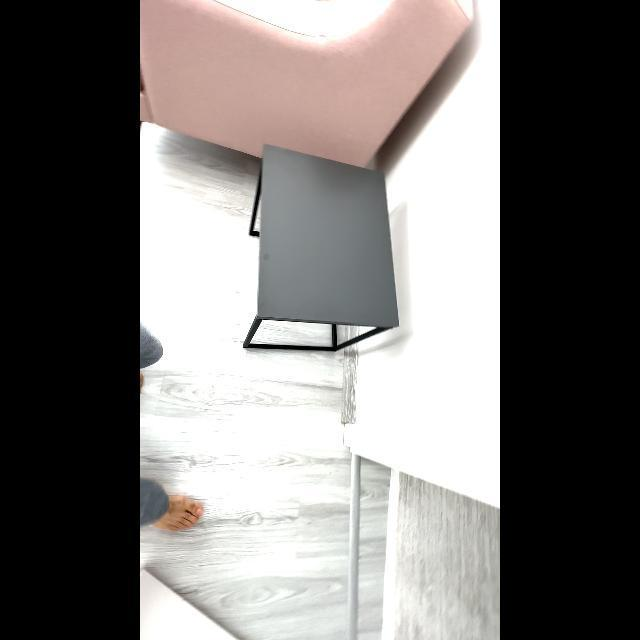coffee table: (241, 138, 403, 364)
